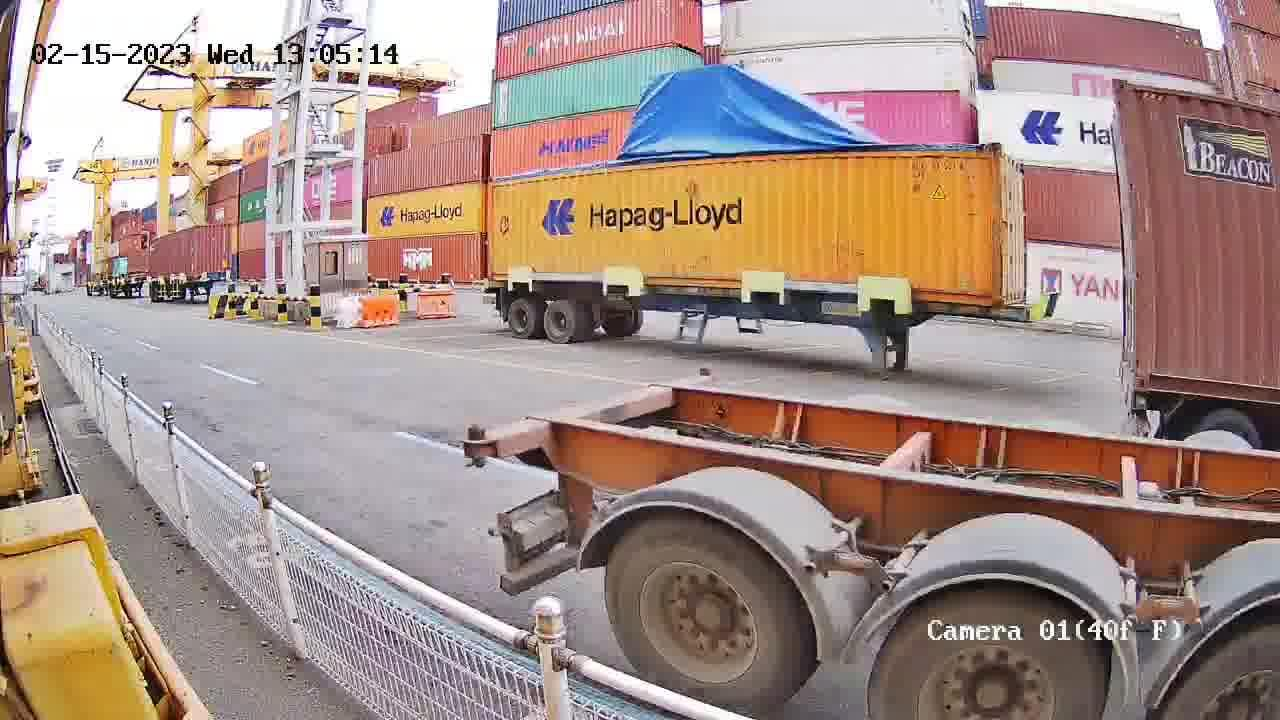Chassis: (465, 368, 721, 456)
Cone: (460, 419, 489, 470), (694, 364, 714, 383)
Tire: (601, 521, 810, 714), (871, 589, 1102, 719), (1163, 621, 1275, 719)
